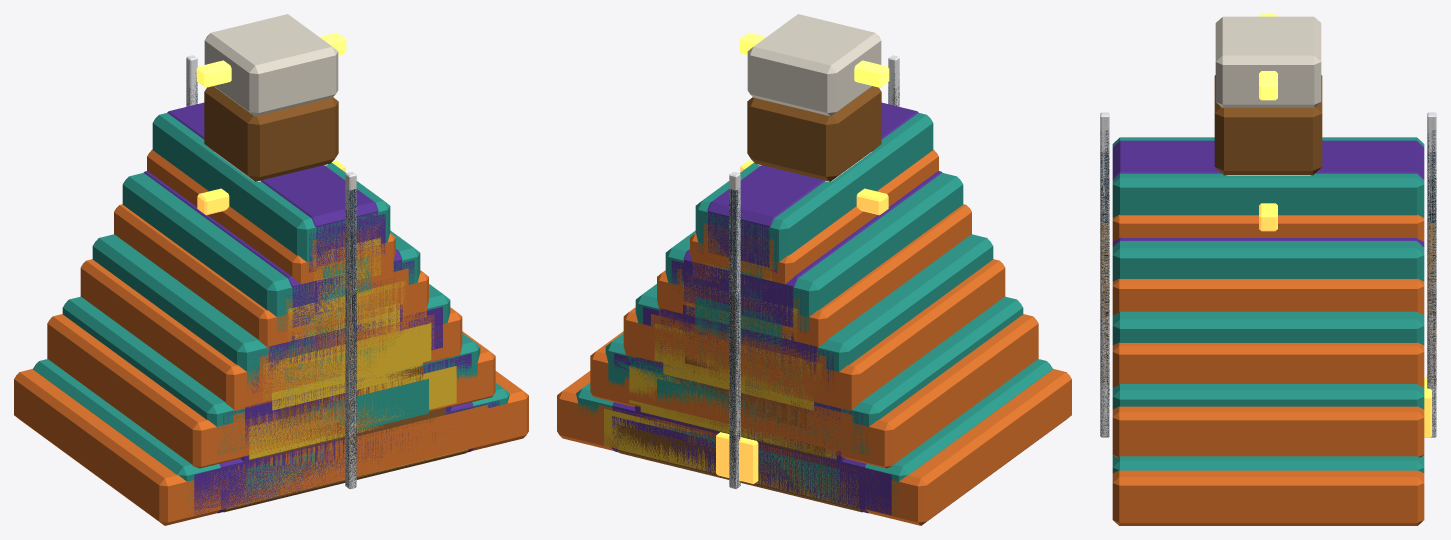
The model's file is flagship_props_025.glb.
3 renders of one model, left to right at view 1: azimuth 30°, elevation 25°; view 2: azimuth 150°, elevation 25°; view 3: azimuth 270°, elevation 25°, orthographic. The views are drawn at different scales.
Visible parts, largest first — view 1: Prop_BBIsle_Tent_15, Prop_BBIsle_Tent_17, Prop_BBIsle_Tent_09, Prop_BBIsle_Tent_10, Prop_BBIsle_Totem_05, Prop_BBIsle_Tent_16, Prop_BBIsle_Tent_11, Prop_BBIsle_Totem_01, Prop_BBIsle_Tent_19, Prop_BBIsle_Tent_12, Prop_BBIsle_Tent_13, Prop_BBIsle_Tent_14 (+2 smaller); view 2: Prop_BBIsle_Tent_15, Prop_BBIsle_Tent_17, Prop_BBIsle_Tent_09, Prop_BBIsle_Tent_10, Prop_BBIsle_Totem_05, Prop_BBIsle_Tent_11, Prop_BBIsle_Totem_01, Prop_BBIsle_Tent_12, Prop_BBIsle_Tent_19, Prop_BBIsle_Tent_14, Prop_BBIsle_Tent_16, Prop_BBIsle_Tent_13 (+2 smaller); view 3: Prop_BBIsle_Tent_15, Prop_BBIsle_Tent_17, Prop_BBIsle_Tent_09, Prop_BBIsle_Totem_05, Prop_BBIsle_Totem_01, Prop_BBIsle_Tent_10, Prop_BBIsle_Tent_13, Prop_BBIsle_Tent_12, Prop_BBIsle_Totem_02, Prop_BBIsle_Tent_11.
Part boxes in pixels (x1,y1,x2,y2): Prop_BBIsle_Tent_15: [14, 94, 528, 525]; Prop_BBIsle_Tent_17: [33, 63, 509, 516]; Prop_BBIsle_Tent_09: [143, 55, 473, 508]; Prop_BBIsle_Tent_10: [187, 73, 487, 488]; Prop_BBIsle_Totem_05: [196, 14, 346, 116]; Prop_BBIsle_Tent_16: [187, 88, 456, 487]; Prop_BBIsle_Tent_11: [227, 231, 467, 508]; Prop_BBIsle_Totem_01: [204, 86, 338, 181]; Prop_BBIsle_Tent_19: [186, 63, 499, 514]; Prop_BBIsle_Tent_12: [191, 104, 428, 502]; Prop_BBIsle_Tent_13: [237, 280, 455, 508]; Prop_BBIsle_Tent_14: [217, 265, 473, 513]; Prop_BBIsle_Tent_15: [557, 93, 1071, 525]; Prop_BBIsle_Tent_17: [576, 60, 1052, 515]; Prop_BBIsle_Tent_09: [612, 55, 942, 506]; Prop_BBIsle_Tent_10: [598, 73, 899, 488]; Prop_BBIsle_Totem_05: [739, 14, 889, 116]; Prop_BBIsle_Tent_11: [618, 231, 858, 508]; Prop_BBIsle_Totem_01: [747, 86, 881, 181]; Prop_BBIsle_Tent_12: [657, 104, 899, 502]; Prop_BBIsle_Tent_19: [614, 63, 899, 515]; Prop_BBIsle_Tent_14: [612, 281, 868, 513]; Prop_BBIsle_Tent_16: [604, 87, 899, 469]; Prop_BBIsle_Tent_13: [630, 280, 848, 508]; Prop_BBIsle_Tent_15: [1100, 152, 1436, 525]; Prop_BBIsle_Tent_17: [1100, 118, 1436, 472]; Prop_BBIsle_Tent_09: [1100, 112, 1436, 437]; Prop_BBIsle_Totem_05: [1215, 14, 1321, 107]; Prop_BBIsle_Totem_01: [1214, 75, 1322, 175]; Prop_BBIsle_Tent_10: [1100, 130, 1436, 436]; Prop_BBIsle_Tent_13: [1100, 223, 1436, 434]; Prop_BBIsle_Tent_12: [1100, 162, 1436, 436]; Prop_BBIsle_Totem_02: [1226, 175, 1310, 231]; Prop_BBIsle_Tent_11: [1100, 173, 1436, 436].
Size of the model in its own units: 2.82 by 2.83 by 2.16.
